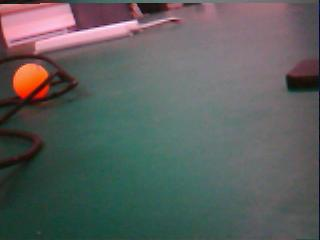oball: (12, 63, 49, 98)
